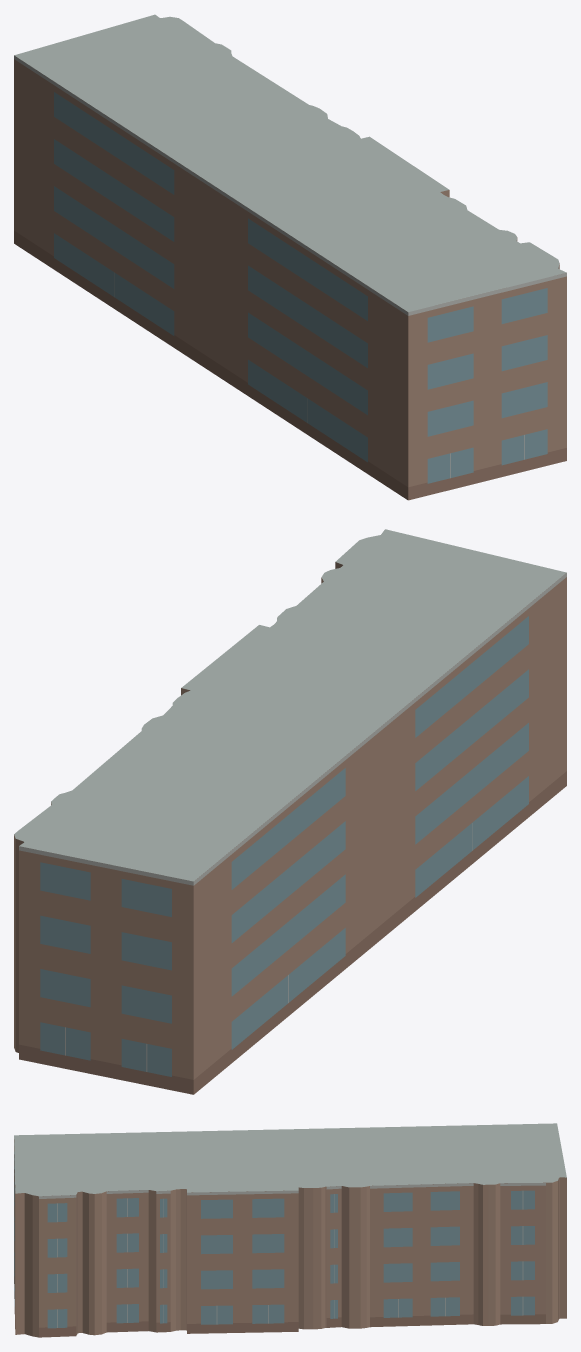
File: survey-upis-32777996.glb
3 views of the same model, one above another, from view 1: azimuth 30°, elevation 25°; view 2: azimuth 150°, elevation 25°; view 3: azimuth 270°, elevation 25° (orthographic). The views are drawn at different scales.
Visible parts, largest first — view 1: survey-upis-32777996.tmp; view 2: survey-upis-32777996.tmp; view 3: survey-upis-32777996.tmp.
Boxes of the visible parts, x1,y1,x2,y2 form: survey-upis-32777996.tmp: (14, 14, 566, 500); survey-upis-32777996.tmp: (14, 529, 566, 1094); survey-upis-32777996.tmp: (14, 1123, 566, 1337).
Size of the model in its own units: 13.51 by 12.2 by 43.28.
